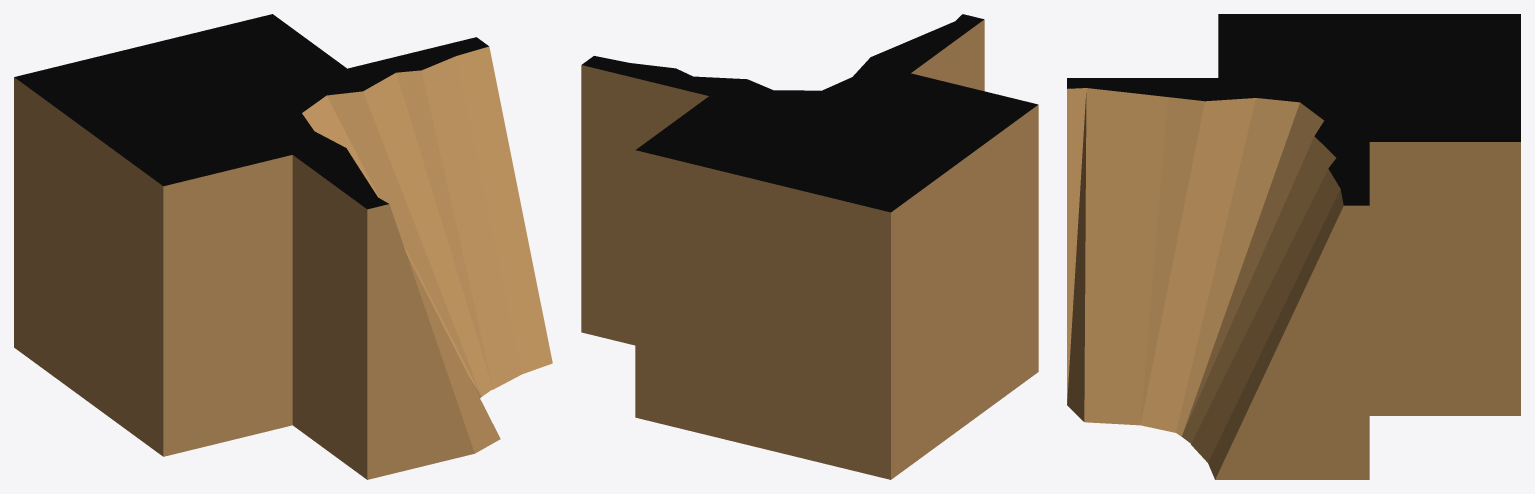
File: Model_Desert_Slope_4S_1PTR.fbx
3 renders of one model, left to right at view 1: azimuth 30°, elevation 25°; view 2: azimuth 150°, elevation 25°; view 3: azimuth 270°, elevation 25°, orthographic. The views are drawn at different scales.
Parts seen in each view (by area): view 1: Model_Frost_Obstacle3; view 2: Model_Frost_Obstacle3; view 3: Model_Frost_Obstacle3.
Part boxes in pixels (<box>): Model_Frost_Obstacle3: <box>14,14,552,479</box>; Model_Frost_Obstacle3: <box>581,14,1038,479</box>; Model_Frost_Obstacle3: <box>1067,14,1520,479</box>.
Bounding box in the file's own units: 300 × 200 × 300.
2 materials, 1 textured.
